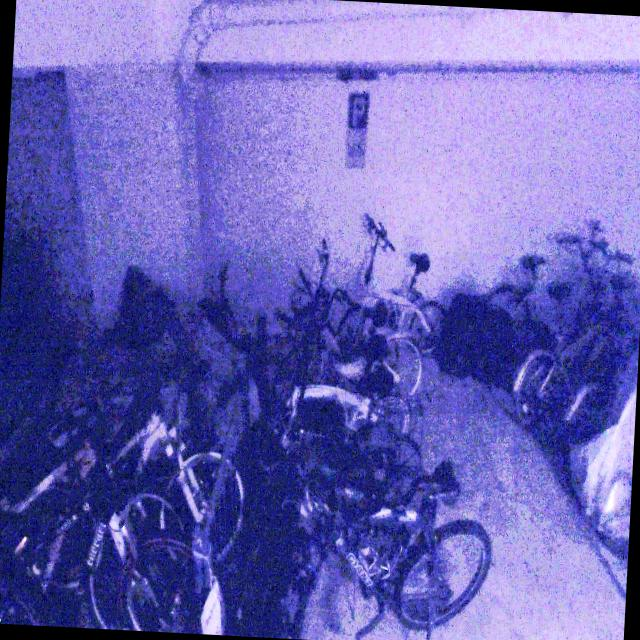bike: (30, 368, 252, 597), (0, 397, 193, 633), (260, 449, 497, 640), (244, 359, 428, 511), (511, 238, 640, 429), (282, 238, 430, 396), (330, 215, 451, 358), (484, 228, 608, 366)
